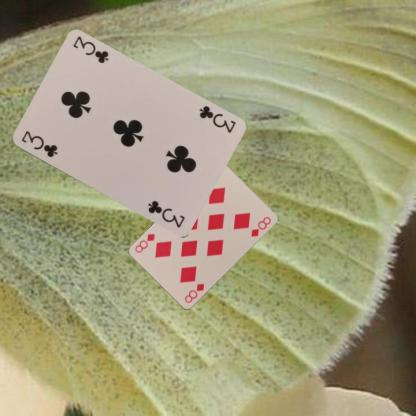3c: (196, 102, 237, 134), (18, 128, 59, 159)
8d: (182, 281, 206, 304)
